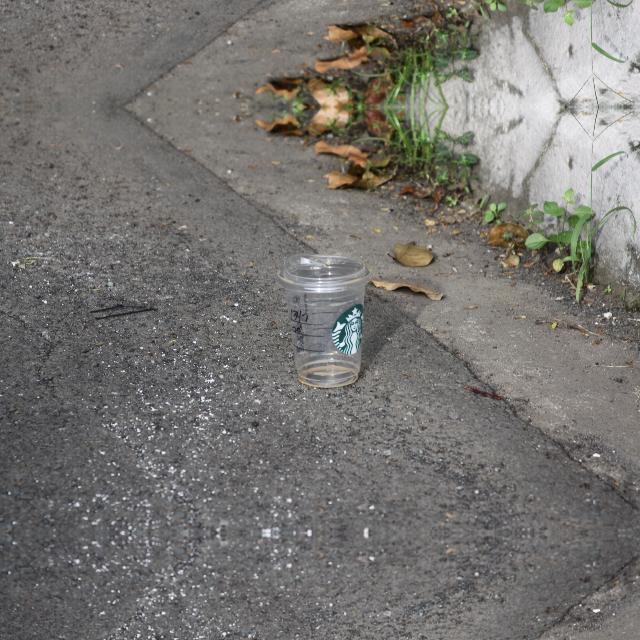Plastic: (274, 252, 374, 388)
